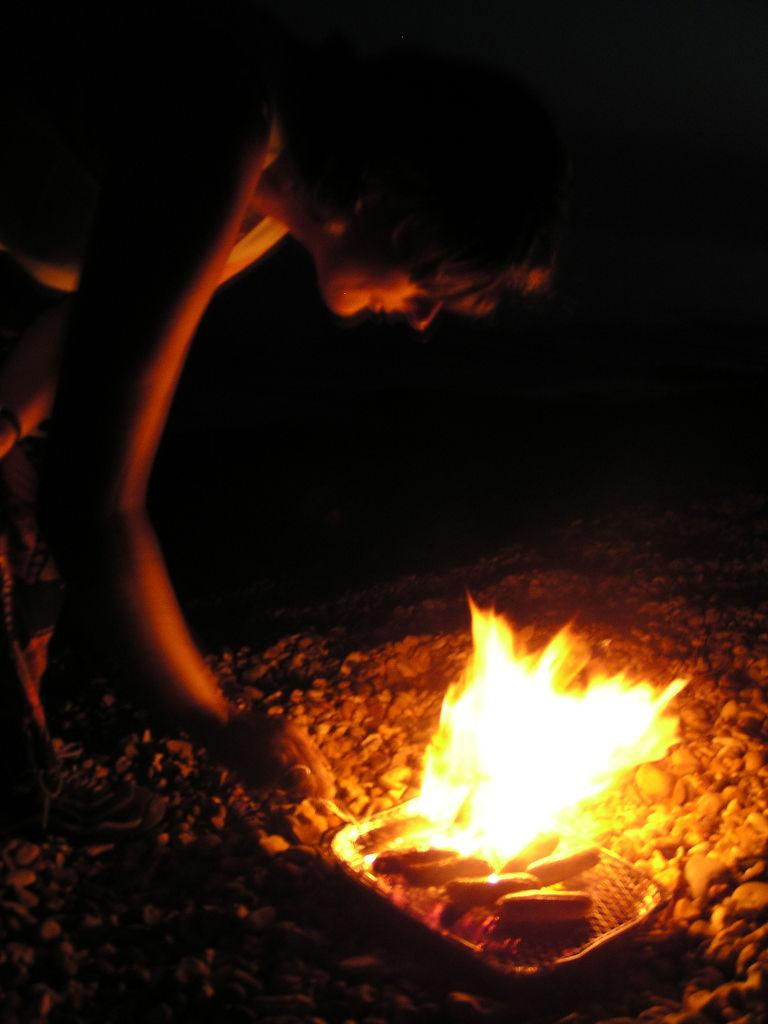fire: (460, 700, 612, 815)
